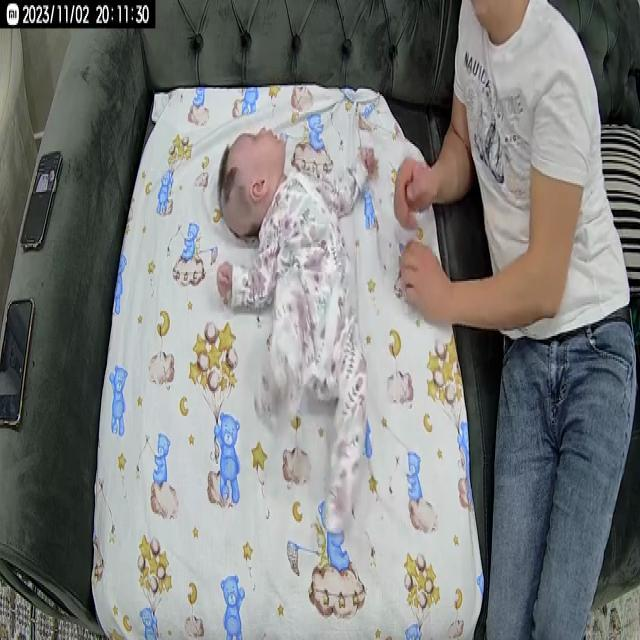baby: (213, 125, 384, 532)
